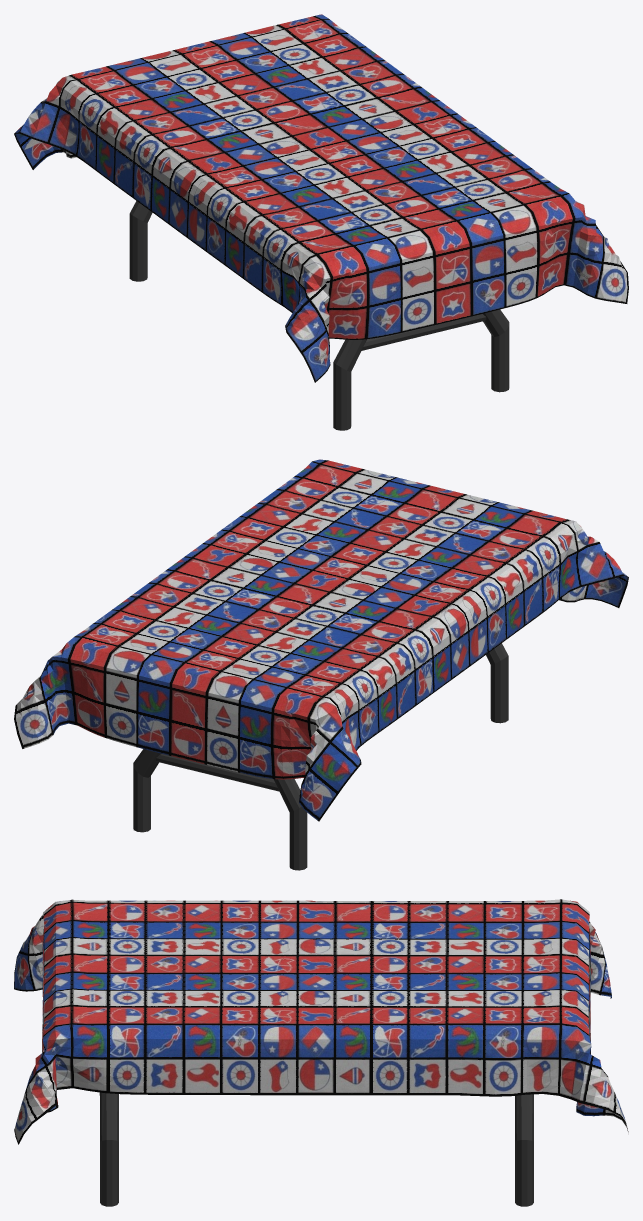
Rendered from table.fbx.
3 views of the same model, one above another, from view 1: azimuth 30°, elevation 25°; view 2: azimuth 150°, elevation 25°; view 3: azimuth 270°, elevation 25° (orthographic). The views are drawn at different scales.
Visible parts, largest first — view 1: mantel, patas; view 2: mantel, patas; view 3: mantel, patas.
Part boxes in pixels (x1,y1,x2,y2): mantel: [14, 14, 628, 382]; patas: [129, 201, 509, 430]; mantel: [14, 459, 628, 821]; patas: [133, 643, 508, 870]; mantel: [14, 899, 628, 1144]; patas: [99, 1092, 533, 1206].
Size of the model in its own units: 477 by 264 by 733.
Materials: 3 (1 with a texture image).
